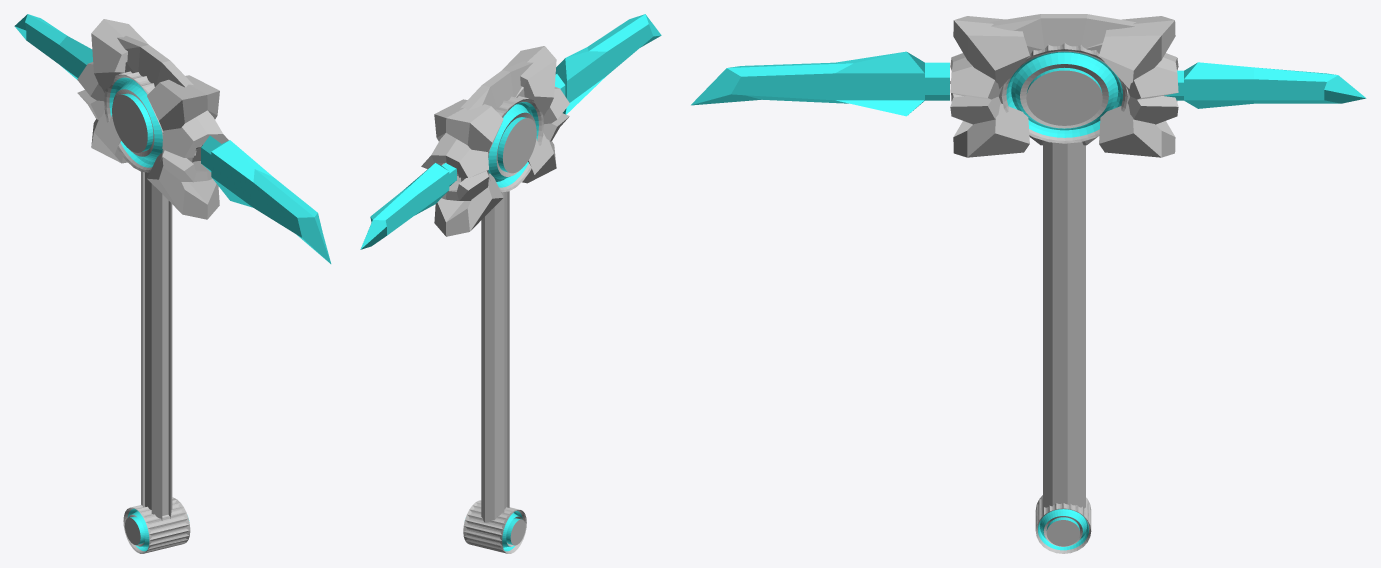
The picture shows the model from 3 angles, left to right: view 1: azimuth 30°, elevation 25°; view 2: azimuth 150°, elevation 25°; view 3: azimuth 270°, elevation 25°; orthographic projection. The views are drawn at different scales.
Visible parts, largest first — view 1: PickAxe_Final:Layer5, PickAxe_Final:(unnamed)_1, PickAxe_Final:Layer7, PickAxe_Final:(unnamed), PickAxe_Final:(unnamed)_2, PickAxe_Final:Layer4; view 2: PickAxe_Final:Layer5, PickAxe_Final:(unnamed)_1, PickAxe_Final:Layer7, PickAxe_Final:(unnamed), PickAxe_Final:(unnamed)_2, PickAxe_Final:Layer4; view 3: PickAxe_Final:Layer5, PickAxe_Final:Layer7, PickAxe_Final:(unnamed)_1, PickAxe_Final:(unnamed), PickAxe_Final:Layer4, PickAxe_Final:(unnamed)_2.
Boxes of the visible parts, <box> form: PickAxe_Final:Layer5: <box>77,19,228,219</box>; PickAxe_Final:(unnamed)_1: <box>141,172,172,520</box>; PickAxe_Final:Layer7: <box>14,14,331,263</box>; PickAxe_Final:(unnamed): <box>104,71,201,172</box>; PickAxe_Final:(unnamed)_2: <box>123,497,190,553</box>; PickAxe_Final:Layer4: <box>117,36,193,162</box>; PickAxe_Final:Layer5: <box>421,46,569,236</box>; PickAxe_Final:(unnamed)_1: <box>481,191,509,522</box>; PickAxe_Final:Layer7: <box>360,14,661,249</box>; PickAxe_Final:(unnamed): <box>457,96,543,192</box>; PickAxe_Final:(unnamed)_2: <box>463,500,526,553</box>; PickAxe_Final:Layer4: <box>460,61,532,181</box>; PickAxe_Final:Layer5: <box>950,16,1178,157</box>; PickAxe_Final:Layer7: <box>691,51,1366,116</box>; PickAxe_Final:(unnamed)_1: <box>1043,141,1085,508</box>; PickAxe_Final:(unnamed): <box>1001,43,1127,143</box>; PickAxe_Final:Layer4: <box>990,14,1135,145</box>; PickAxe_Final:(unnamed)_2: <box>1035,495,1091,553</box>.
Bounding box in the file's own units: 25.99 × 210 × 244.
